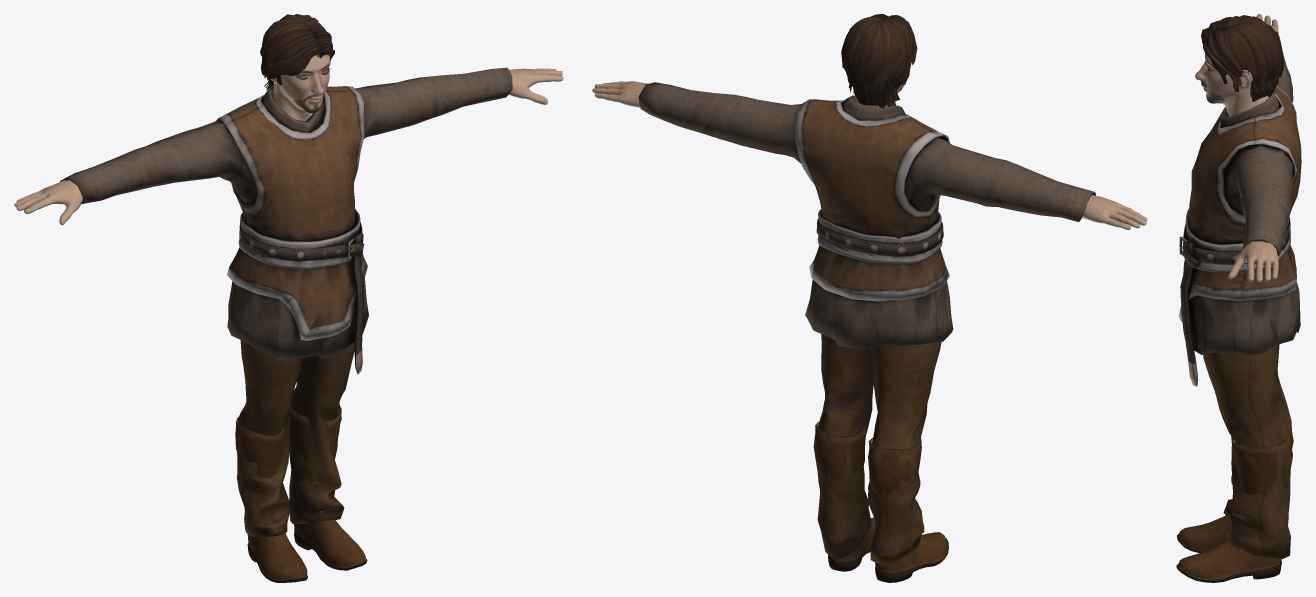
The model's file is boy.obj.
The picture shows the model from 3 angles, left to right: view 1: azimuth 30°, elevation 25°; view 2: azimuth 150°, elevation 25°; view 3: azimuth 270°, elevation 25°; orthographic projection.
Visible parts, largest first — view 1: Tops, Bottoms, Shoes, Body, Hair; view 2: Tops, Bottoms, Shoes, Hair, Body; view 3: Tops, Bottoms, Shoes, Hair, Body.
Boxes of the visible parts, left/top/right/bottom form: Tops: left=60, top=67, right=512, bottom=374; Bottoms: left=235, top=340, right=354, bottom=536; Shoes: left=235, top=405, right=367, bottom=582; Body: left=14, top=55, right=563, bottom=225; Hair: left=260, top=14, right=334, bottom=92; Tops: left=638, top=82, right=1095, bottom=348; Bottoms: left=813, top=334, right=941, bottom=565; Shoes: left=814, top=422, right=948, bottom=582; Hair: left=841, top=14, right=917, bottom=108; Body: left=592, top=65, right=1147, bottom=229; Tops: left=1178, top=31, right=1301, bottom=386; Bottoms: left=1203, top=344, right=1291, bottom=558; Shoes: left=1176, top=416, right=1293, bottom=582; Hair: left=1201, top=15, right=1284, bottom=101; Body: left=1195, top=14, right=1278, bottom=282.
Size of the model in its own units: 194 by 183 by 38.31.
5 materials, 5 textured.
